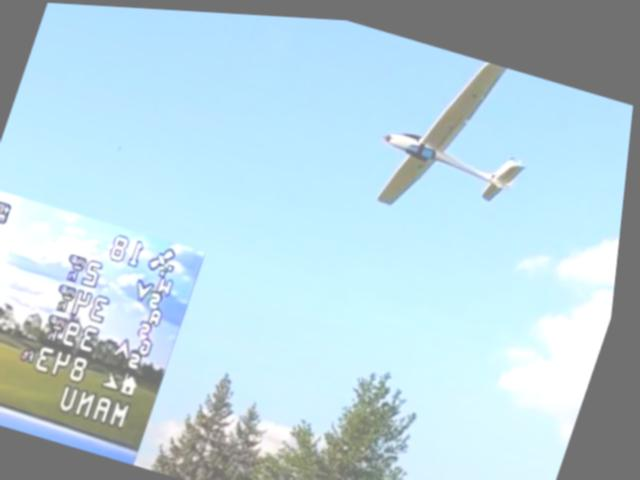iha: (361, 34, 558, 237)
